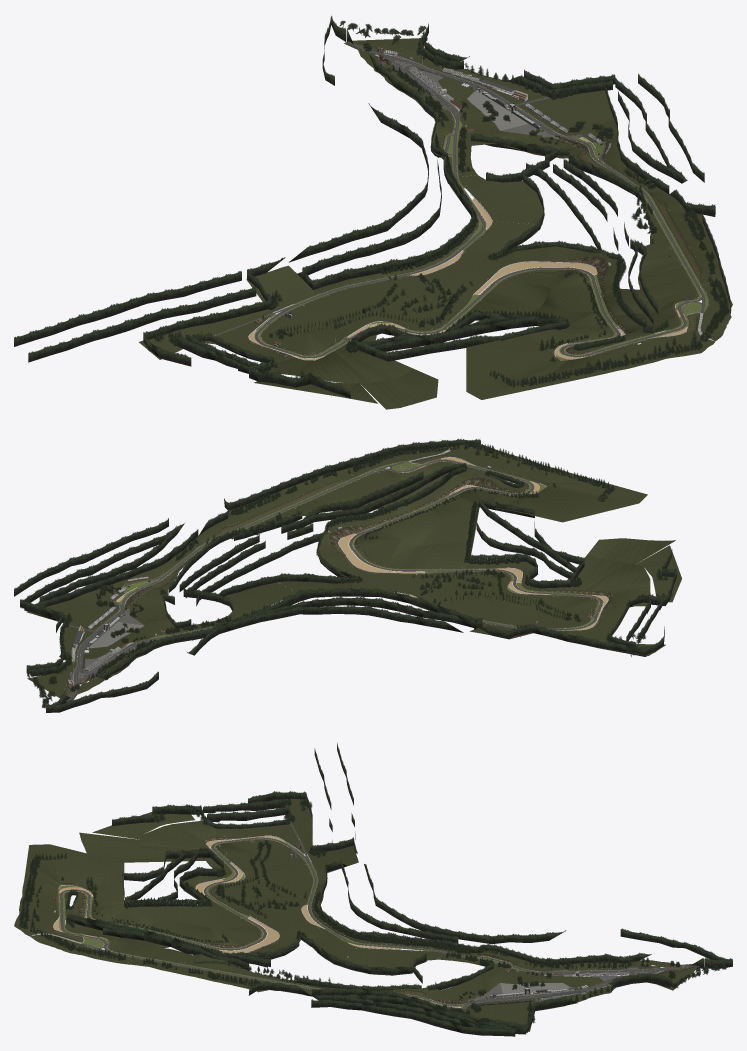
File: track.glb
3 renders of one model, top to bottom at view 1: azimuth 30°, elevation 25°; view 2: azimuth 150°, elevation 25°; view 3: azimuth 270°, elevation 25°, orthographic. The views are drawn at different scales.
Parts seen in each view (by area): view 1: Spa Francorchamps_0; view 2: Spa Francorchamps_0; view 3: Spa Francorchamps_0.
Part boxes in pixels (left/top/right/bottom): Spa Francorchamps_0: left=14, top=15, right=732, bottom=409; Spa Francorchamps_0: left=14, top=438, right=681, bottom=712; Spa Francorchamps_0: left=14, top=743, right=732, bottom=1036.
Bounding box in the file's own units: 13559 × 846 × 14195.
Materials: 66 (64 with a texture image).
